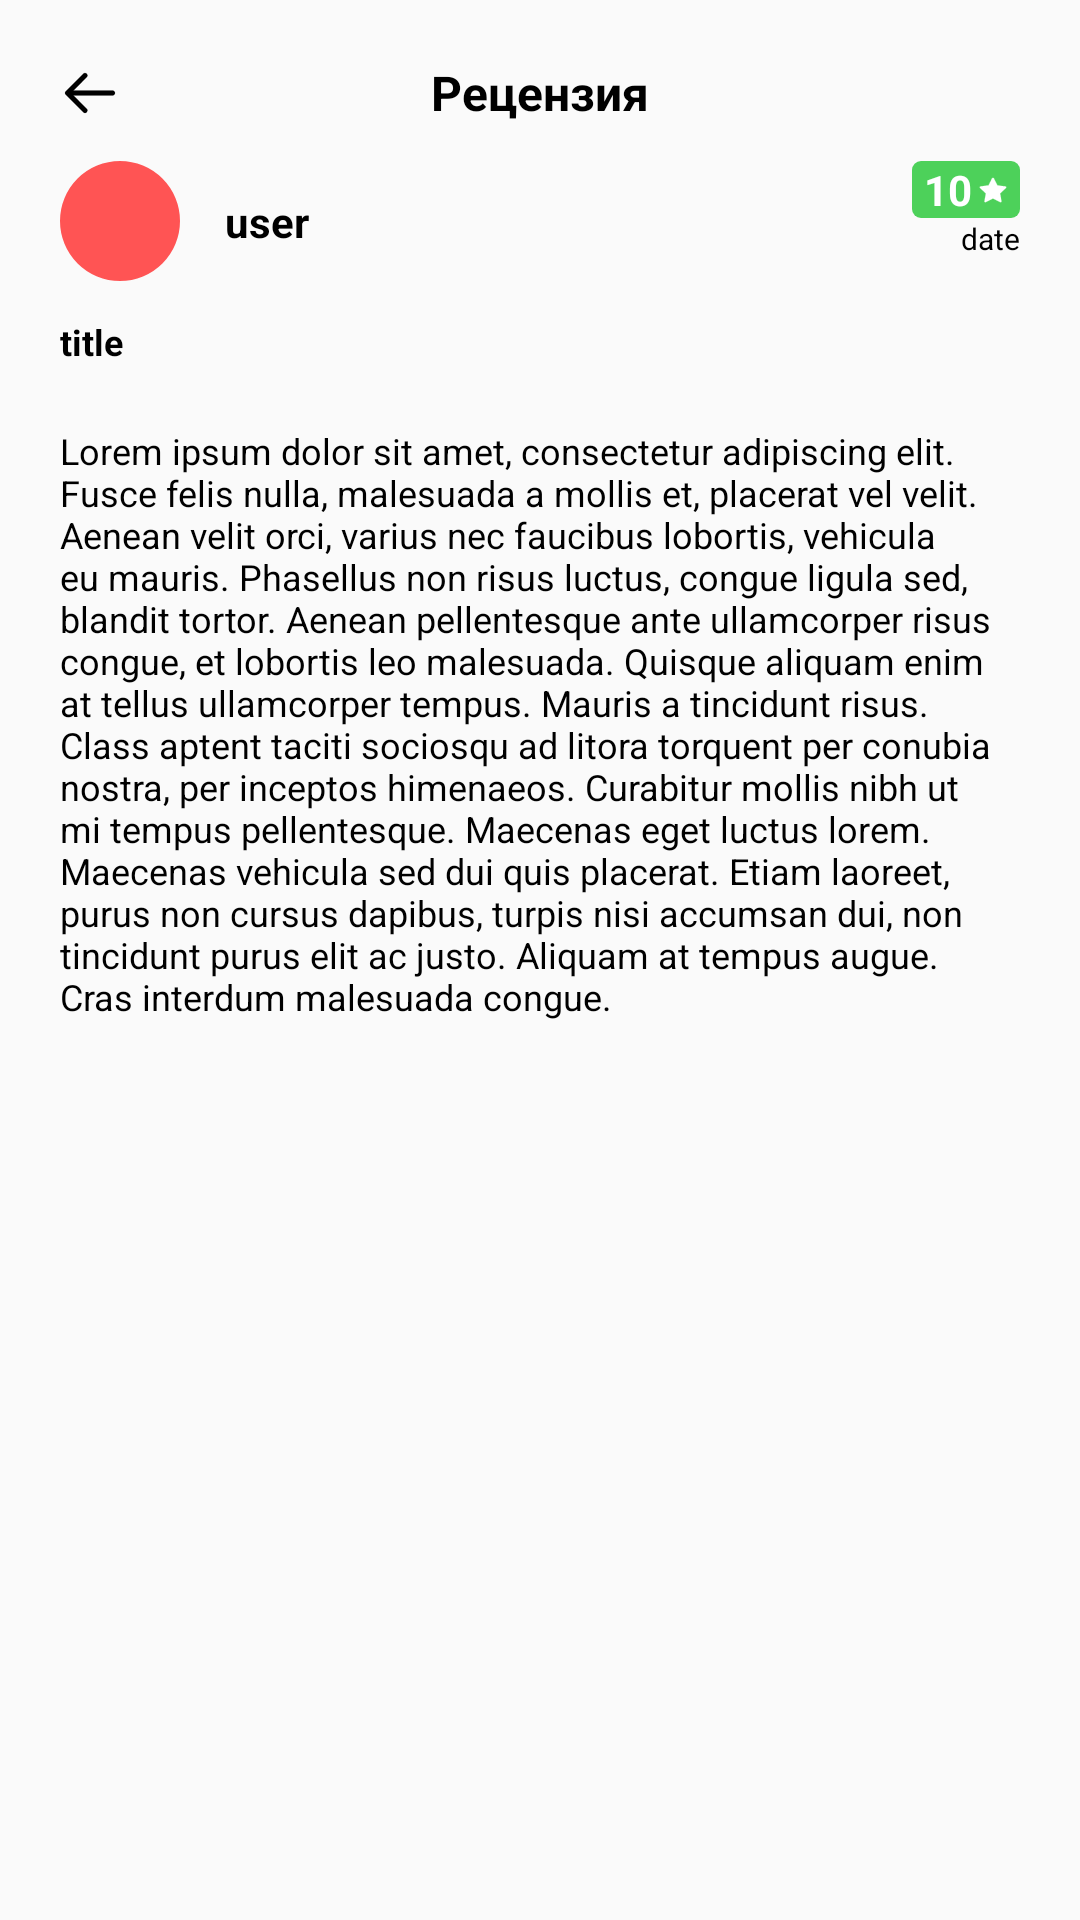

Where icons sit on this 1080 × 1920 app screen, as box(x1, y1, x2, y2):
arrow: box(65, 73, 115, 113)
star: box(979, 178, 1007, 203)
